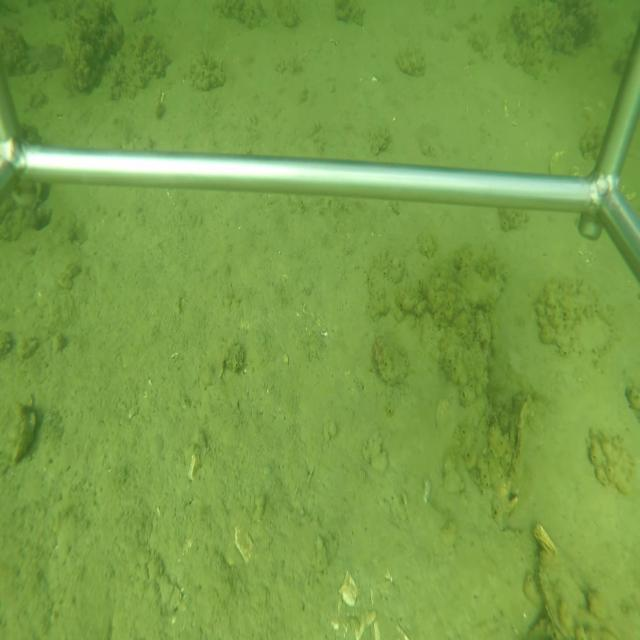Oyster-Closed: (534, 530, 585, 636), (506, 392, 531, 483)
Oyster-Indeterminate: (4, 405, 36, 474)
